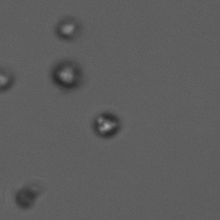Dead Cell: (15, 185, 39, 209)
Living Cell: (92, 111, 122, 138), (53, 59, 80, 88), (54, 17, 80, 38), (1, 68, 18, 92)
